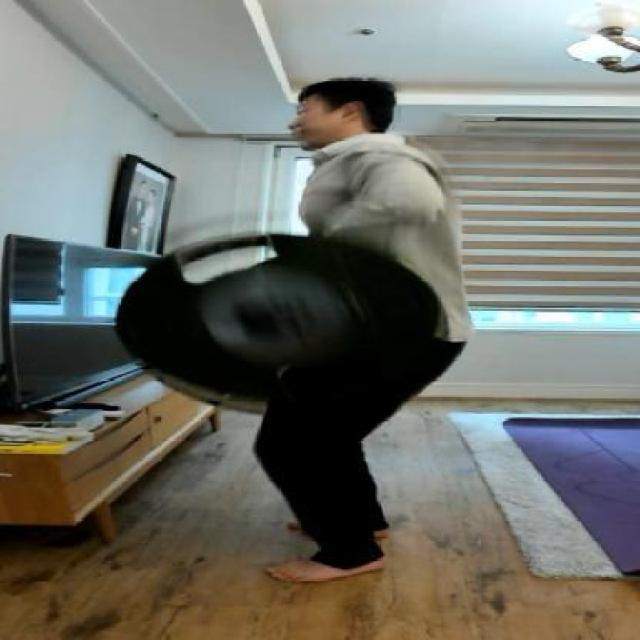barbell: (113, 232, 451, 427)
